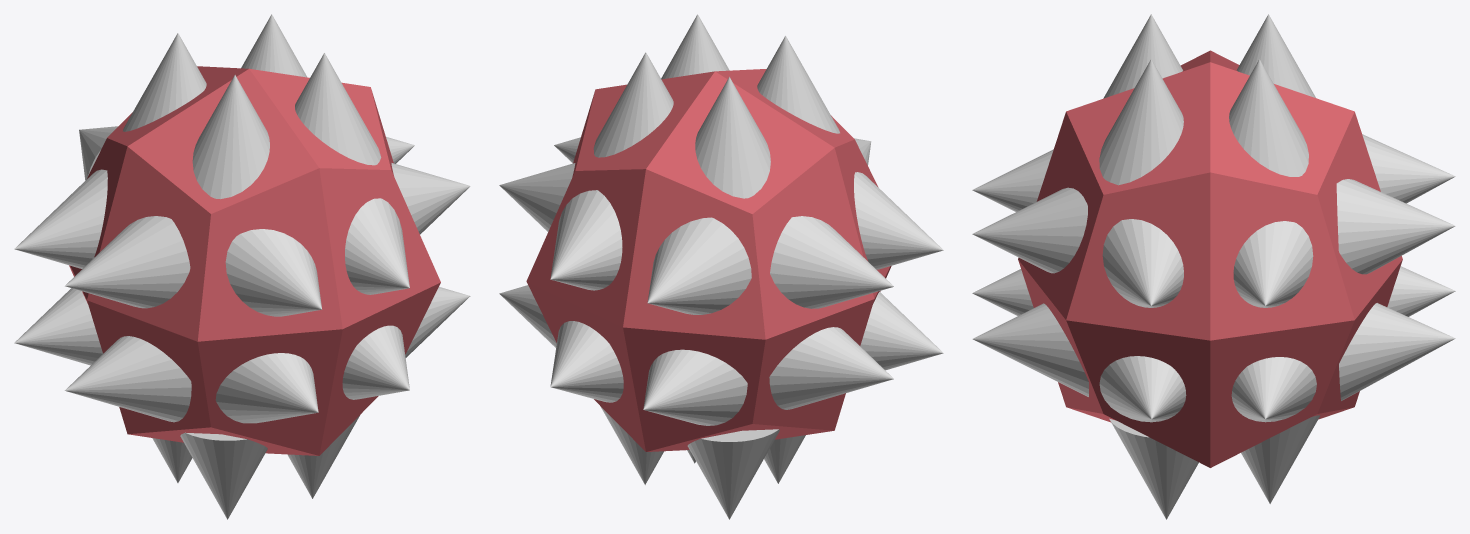
Rendered from rock.fbx.
The picture shows the model from 3 angles, left to right: view 1: azimuth 30°, elevation 25°; view 2: azimuth 150°, elevation 25°; view 3: azimuth 270°, elevation 25°; orthographic projection. The views are drawn at different scales.
Parts seen in each view (by area): view 1: Cone; view 2: Cone; view 3: Cone.
Part boxes in pixels (x1,y1,x2,y2): Cone: (14, 14, 470, 519); Cone: (499, 14, 943, 519); Cone: (972, 14, 1455, 519).
Size of the model in its own units: 8.14 by 8.74 by 8.27.
